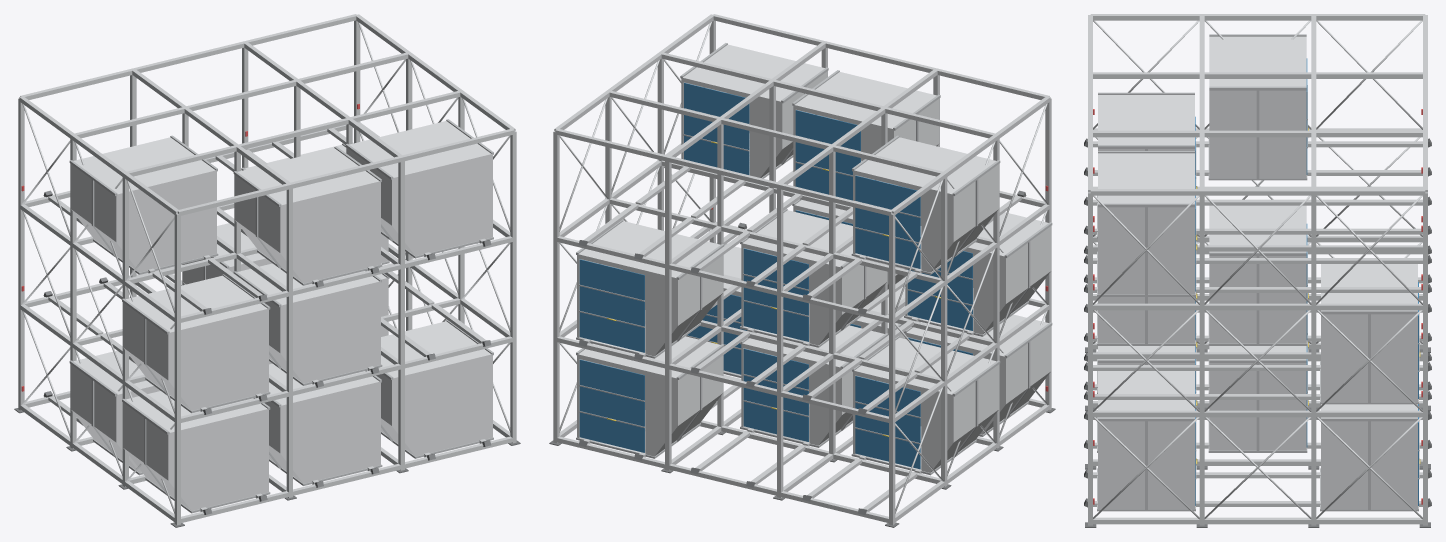
The model's file is ULDRacks.fbx.
The picture shows the model from 3 angles, left to right: view 1: azimuth 30°, elevation 25°; view 2: azimuth 150°, elevation 25°; view 3: azimuth 270°, elevation 25°; orthographic projection. The views are drawn at different scales.
Visible parts, largest first — view 1: ULD_Storage_Rack_CSR_Structure, ULD_AKE_Stored_2_1_0, ULD_AKE_Stored_1_0_0, ULD_AKE_Stored_2_0_1, ULD_AKE_Stored_2_2_0, ULD_AKE_Stored_0_0_0, ULD_AKE_Stored_0_2_0, ULD_AKE_Stored_1_1_0, ULD_AKE_Stored_0_1_0, ULD_AKE_Stored_0_0_1, ULD_AKE_Stored_1_1_1; view 2: ULD_Storage_Rack_CSR_Structure, ULD_AKE_Stored_1_2_2, ULD_AKE_Stored_2_0_1, ULD_AKE_Stored_0_0_1, ULD_AKE_Stored_0_2_2, ULD_AKE_Stored_2_2_0, ULD_AKE_Stored_1_1_1, ULD_AKE_Stored_2_1_0, ULD_AKE_Stored_1_0_0, ULD_AKE_Stored_0_1_1, ULD_AKE_Stored_0_0_0, ULD_AKE_Stored_0_2_0 (+1 smaller); view 3: ULD_Storage_Rack_CSR_Structure, ULD_AKE_Stored_2_2_0, ULD_AKE_Stored_2_0_1, ULD_AKE_Stored_1_2_2, ULD_AKE_Stored_0_2_0, ULD_AKE_Stored_1_1_1, ULD_AKE_Stored_0_2_2, ULD_AKE_Stored_0_1_1, ULD_AKE_Stored_2_1_0, ULD_AKE_Stored_1_1_0, ULD_AKE_Stored_0_1_0.
Part boxes in pixels (left/top/right/bottom): ULD_Storage_Rack_CSR_Structure: left=14, top=14, right=520, bottom=527; ULD_AKE_Stored_2_1_0: left=233, top=146, right=382, bottom=285; ULD_AKE_Stored_1_0_0: left=122, top=274, right=270, bottom=413; ULD_AKE_Stored_2_0_1: left=69, top=135, right=218, bottom=274; ULD_AKE_Stored_2_2_0: left=345, top=119, right=493, bottom=258; ULD_AKE_Stored_0_0_0: left=122, top=391, right=270, bottom=513; ULD_AKE_Stored_0_2_0: left=376, top=320, right=493, bottom=458; ULD_AKE_Stored_1_1_0: left=233, top=263, right=382, bottom=385; ULD_AKE_Stored_0_1_0: left=264, top=363, right=382, bottom=485; ULD_AKE_Stored_0_0_1: left=69, top=350, right=160, bottom=475; ULD_AKE_Stored_1_1_1: left=182, top=223, right=272, bottom=284; ULD_Storage_Rack_CSR_Structure: left=549, top=14, right=1055, bottom=527; ULD_AKE_Stored_1_2_2: left=576, top=219, right=724, bottom=358; ULD_AKE_Stored_2_0_1: left=851, top=135, right=1000, bottom=274; ULD_AKE_Stored_0_0_1: left=851, top=336, right=1000, bottom=475; ULD_AKE_Stored_0_2_2: left=576, top=336, right=724, bottom=458; ULD_AKE_Stored_2_2_0: left=680, top=43, right=828, bottom=178; ULD_AKE_Stored_1_1_1: left=740, top=208, right=887, bottom=347; ULD_AKE_Stored_2_1_0: left=792, top=70, right=940, bottom=200; ULD_AKE_Stored_1_0_0: left=904, top=212, right=1052, bottom=336; ULD_AKE_Stored_0_1_1: left=740, top=325, right=888, bottom=447; ULD_AKE_Stored_0_0_0: left=904, top=314, right=1052, bottom=436; ULD_AKE_Stored_0_2_0: left=686, top=243, right=747, bottom=377; ULD_Storage_Rack_CSR_Structure: left=1084, top=14, right=1431, bottom=527; ULD_AKE_Stored_2_2_0: left=1097, top=151, right=1197, bottom=296; ULD_AKE_Stored_2_0_1: left=1208, top=34, right=1308, bottom=180; ULD_AKE_Stored_1_2_2: left=1320, top=264, right=1420, bottom=404; ULD_AKE_Stored_0_2_0: left=1097, top=371, right=1197, bottom=511; ULD_AKE_Stored_1_1_1: left=1208, top=205, right=1308, bottom=345; ULD_AKE_Stored_0_2_2: left=1320, top=404, right=1420, bottom=511; ULD_AKE_Stored_0_1_1: left=1208, top=346, right=1308, bottom=452; ULD_AKE_Stored_2_1_0: left=1097, top=92, right=1197, bottom=238; ULD_AKE_Stored_1_1_0: left=1097, top=265, right=1197, bottom=345; ULD_AKE_Stored_0_1_0: left=1097, top=346, right=1197, bottom=452.
Bounding box in the file's own units: 690 × 595 × 559.
